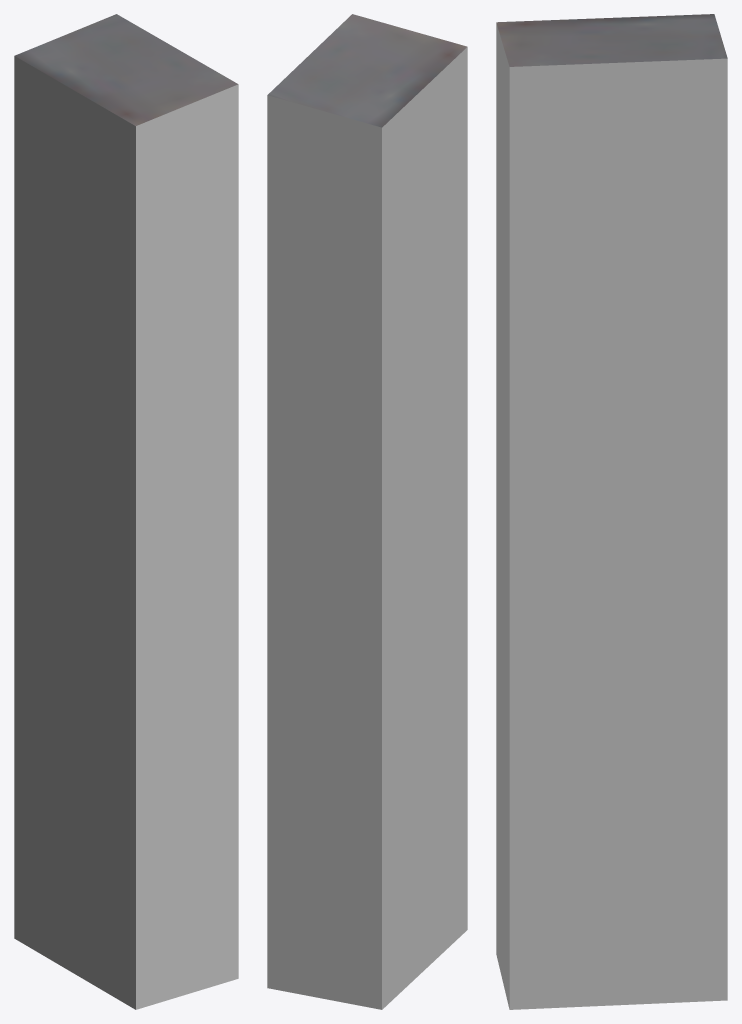
File: DEBW_0010007THWL.gltf
3 renders of one model, left to right at view 1: azimuth 30°, elevation 25°; view 2: azimuth 150°, elevation 25°; view 3: azimuth 270°, elevation 25°, orthographic. The views are drawn at different scales.
Parts seen in each view (by area): view 1: Z_UP; view 2: Z_UP; view 3: Z_UP.
Boxes of the visible parts, <box> form: Z_UP: <box>14,14,238,1009</box>; Z_UP: <box>267,14,467,1009</box>; Z_UP: <box>496,14,727,1009</box>.
Bounding box in the file's own units: 2.55 × 17.17 × 3.82.
2 materials, 1 textured.
